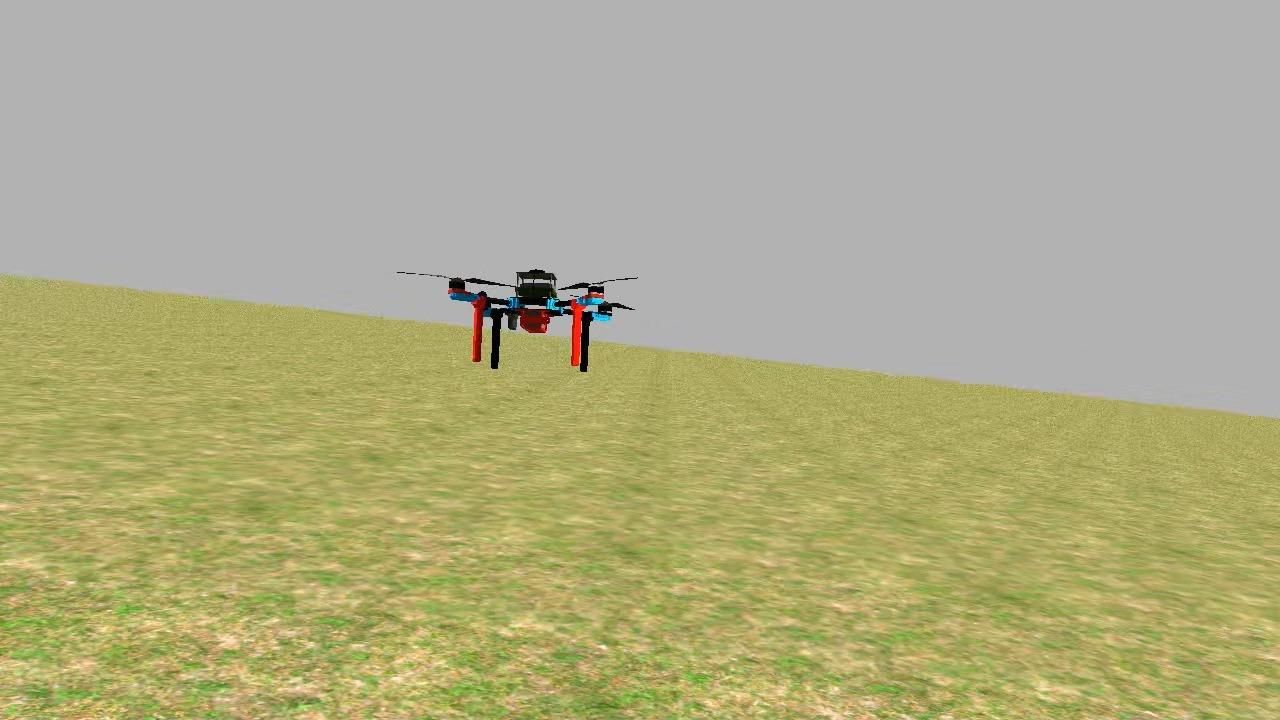UAV: (439, 256, 626, 378)
